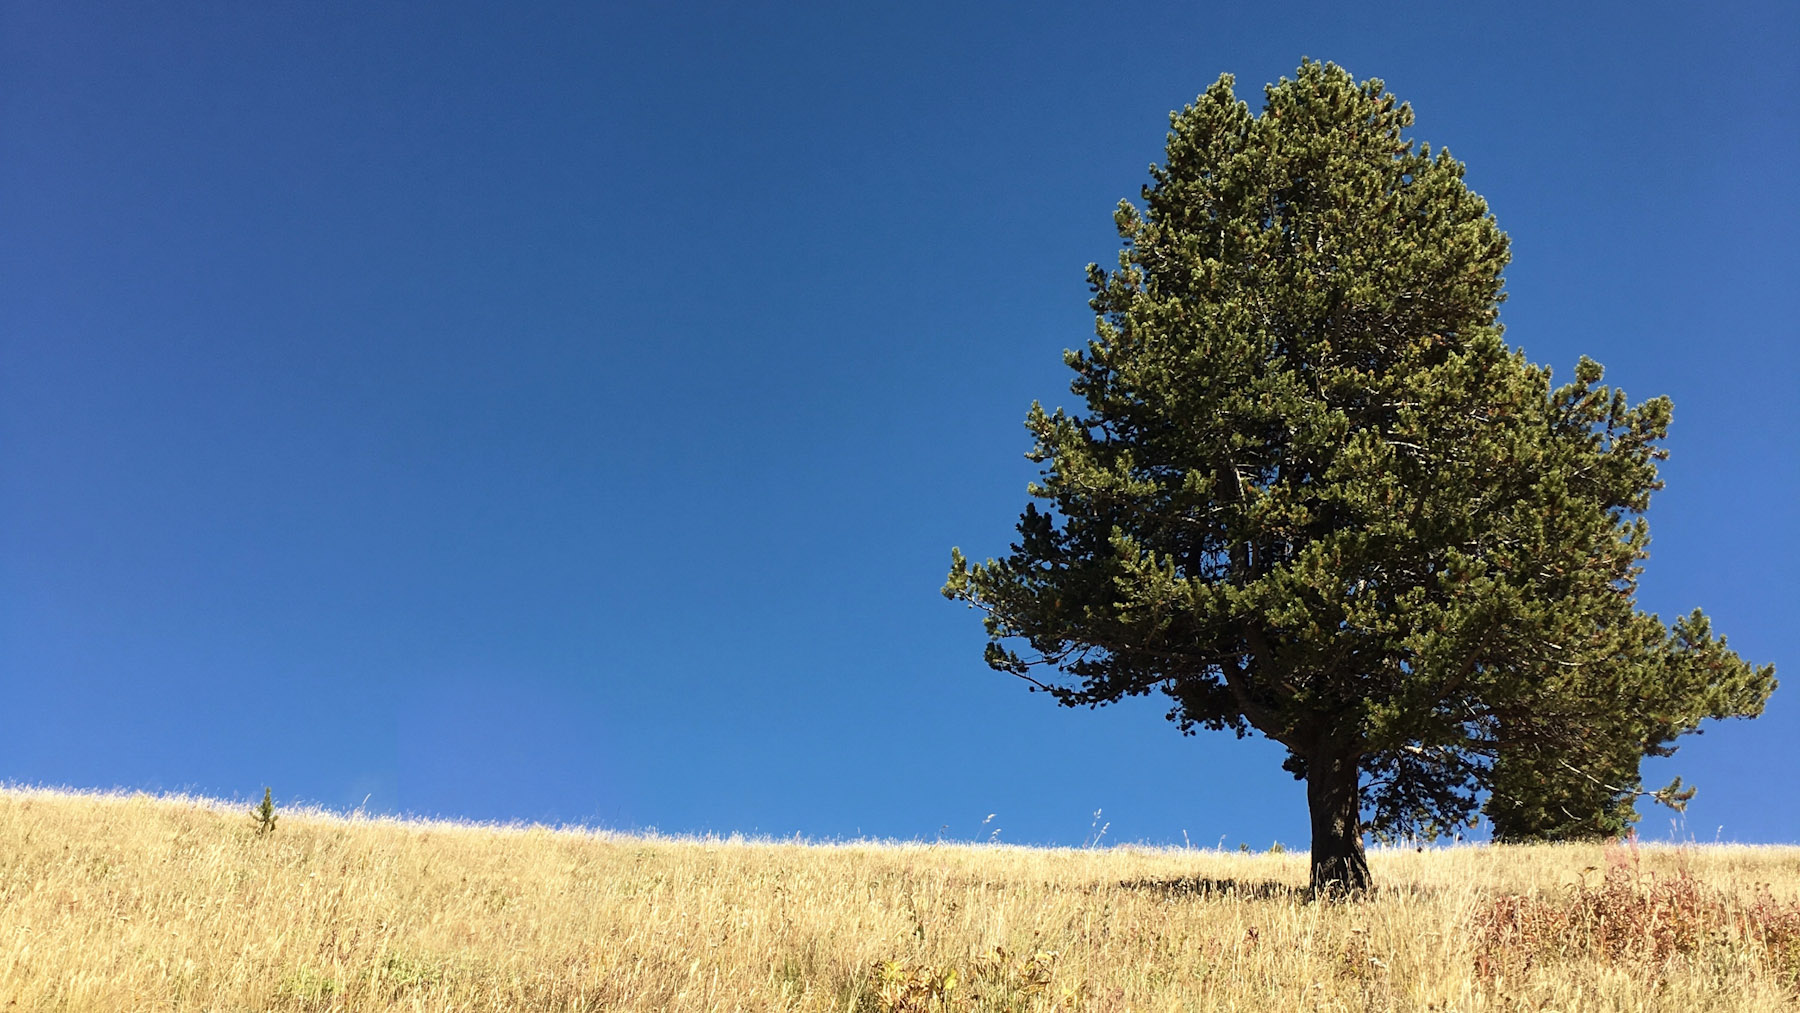plants: (1006, 53, 1533, 888), (1540, 357, 1751, 851)
